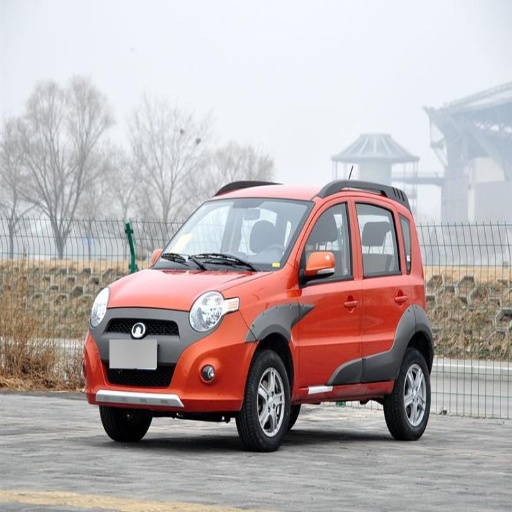back_left_door: (350, 193, 411, 381)
front_bumper: (98, 311, 255, 410)
front_glass: (159, 197, 310, 270)
front_left_door: (296, 192, 363, 387)
